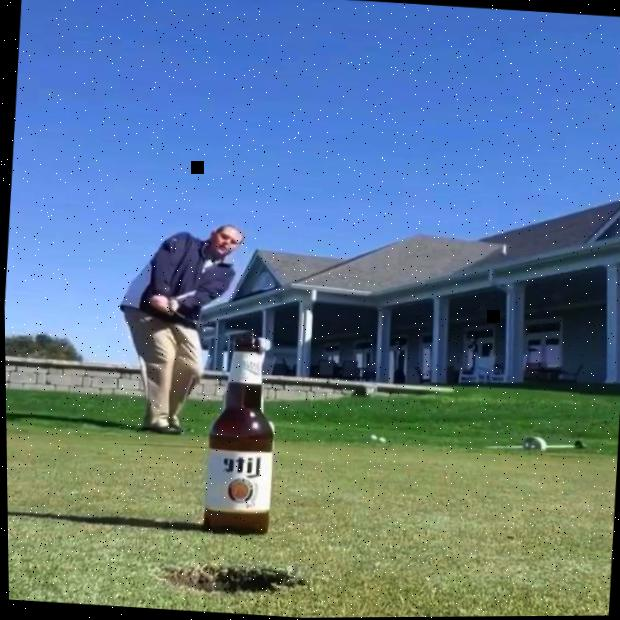GolfBall: (377, 436, 385, 443), (368, 434, 376, 441)
